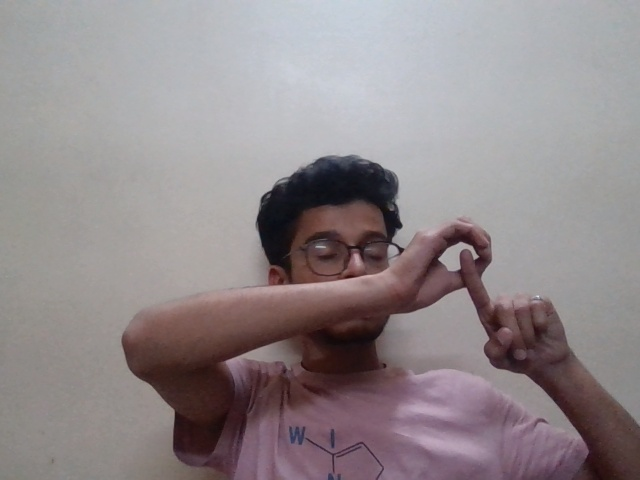Q: (397, 210, 577, 389)
